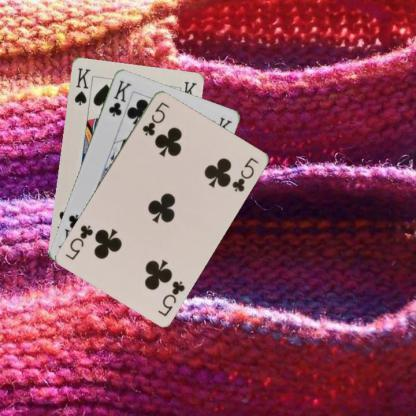5c: (155, 277, 186, 318), (140, 99, 170, 137)
Kc: (106, 78, 133, 118)
Ks: (71, 64, 92, 106)
